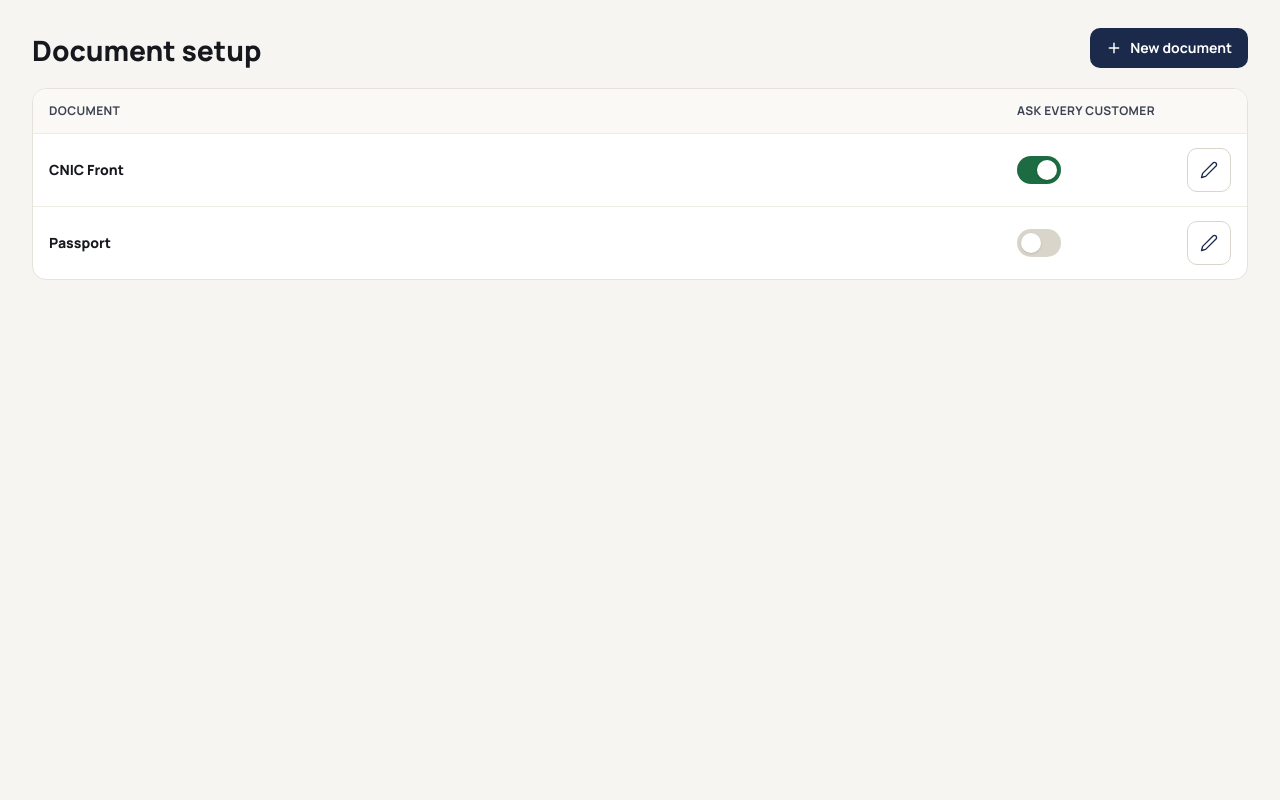
Scenario: Document setup (KAN-83) › shows a name clash under the field and keeps the popup open
This screenshot has width=1280, height=800.
Click the button named "Edit Passport".
click(1209, 243)  # box [1187, 221, 1231, 265]
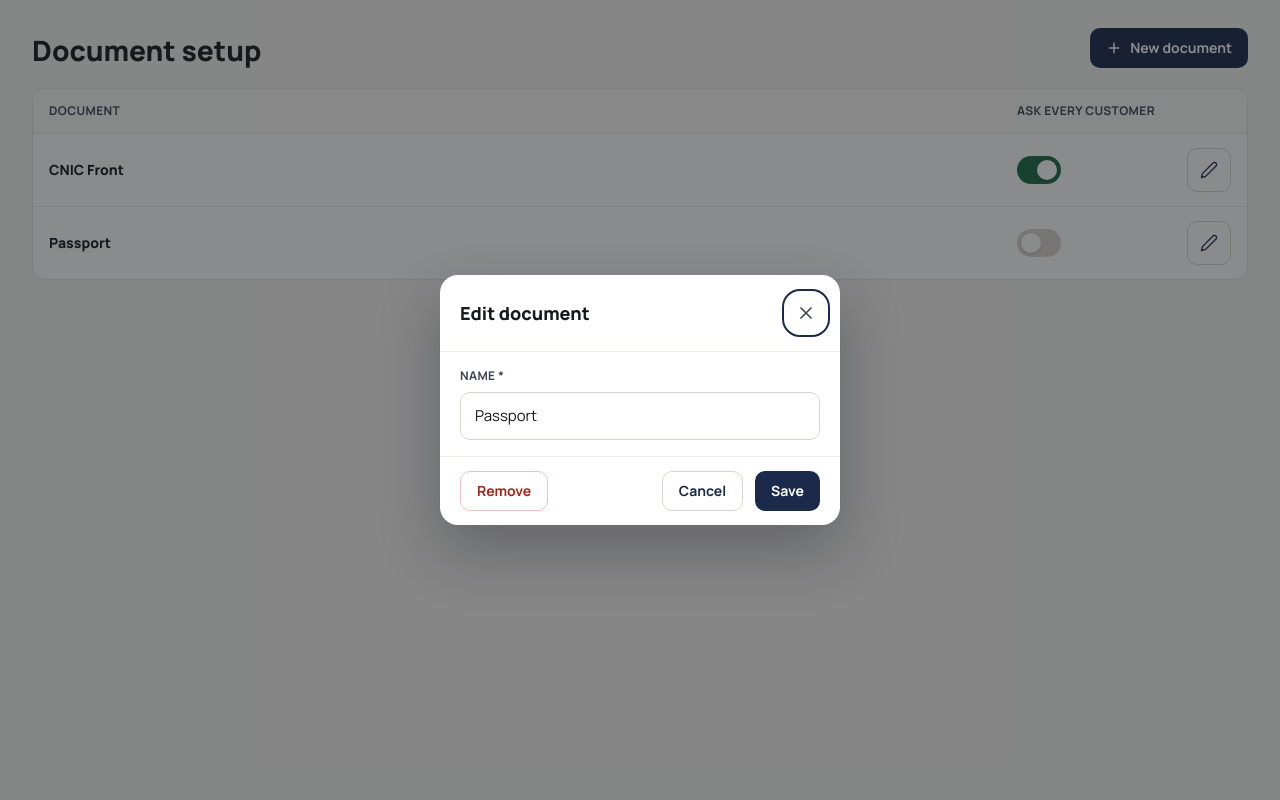
Expected: the heading "Edit document" is shown, [460, 301, 590, 325]
Replace the text in the field labelled "Name *" with "CNIC Front" at [640, 416], box [475, 393, 805, 439]
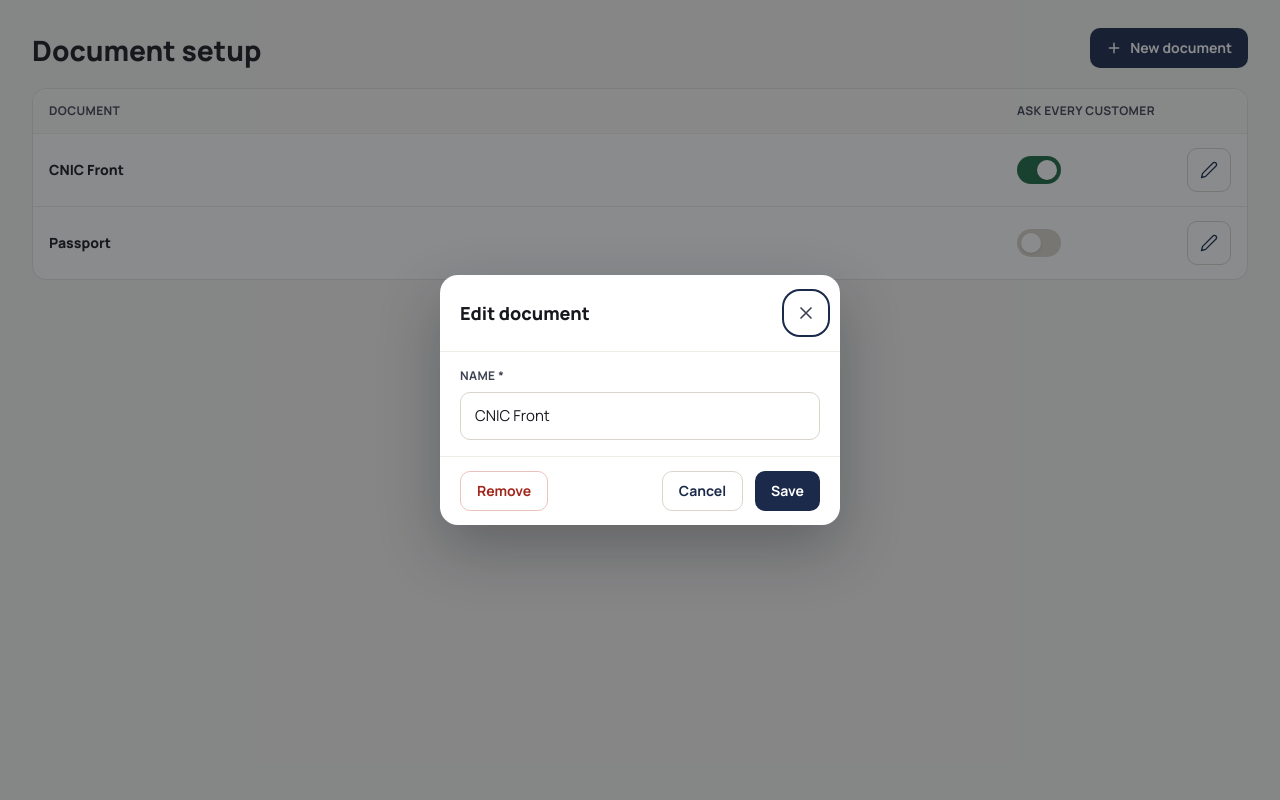
Click the button "Save".
click(788, 491)  # box [755, 471, 820, 511]
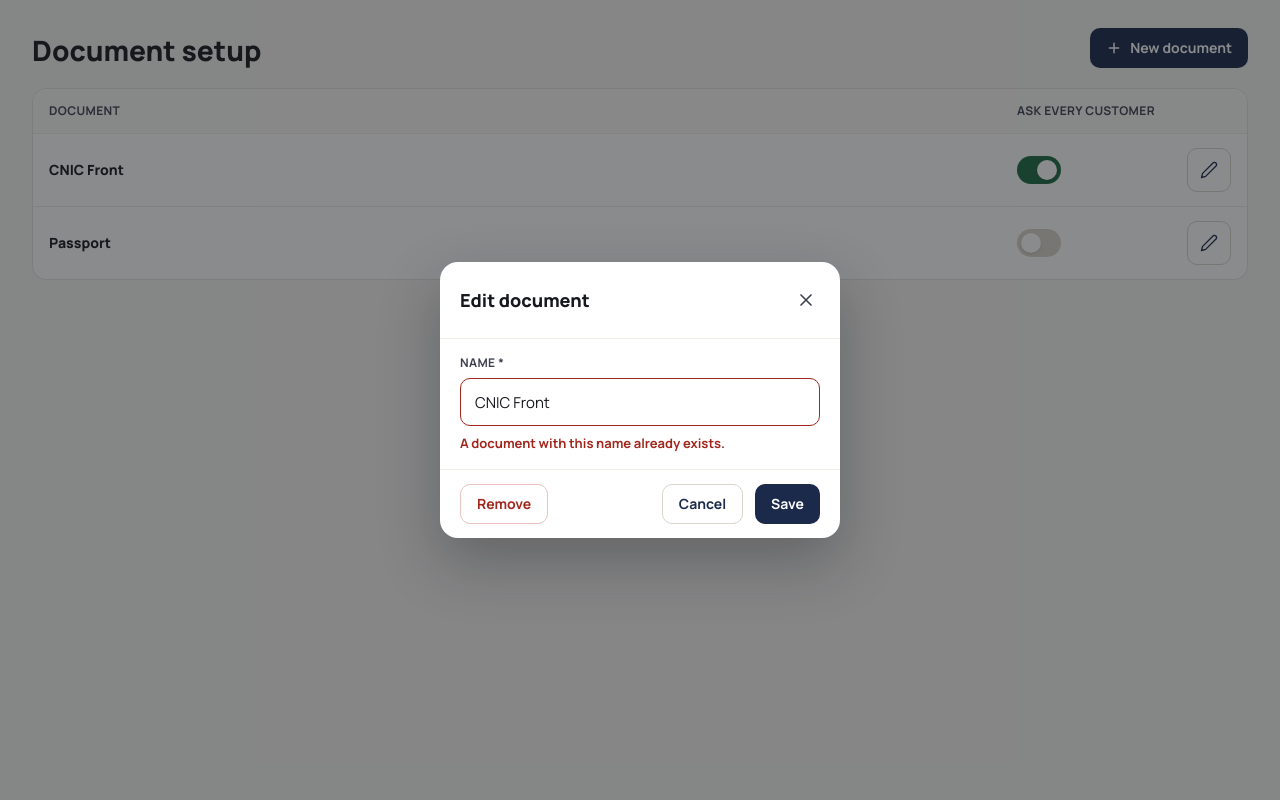
Expected: the heading "Edit document" is shown, [460, 288, 590, 312]
Expected: the message reads "A document with this name already exists.", [460, 434, 725, 452]
